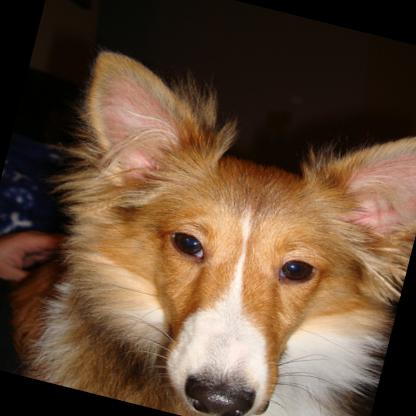Shetland_sheepdog: (11, 43, 416, 416)
